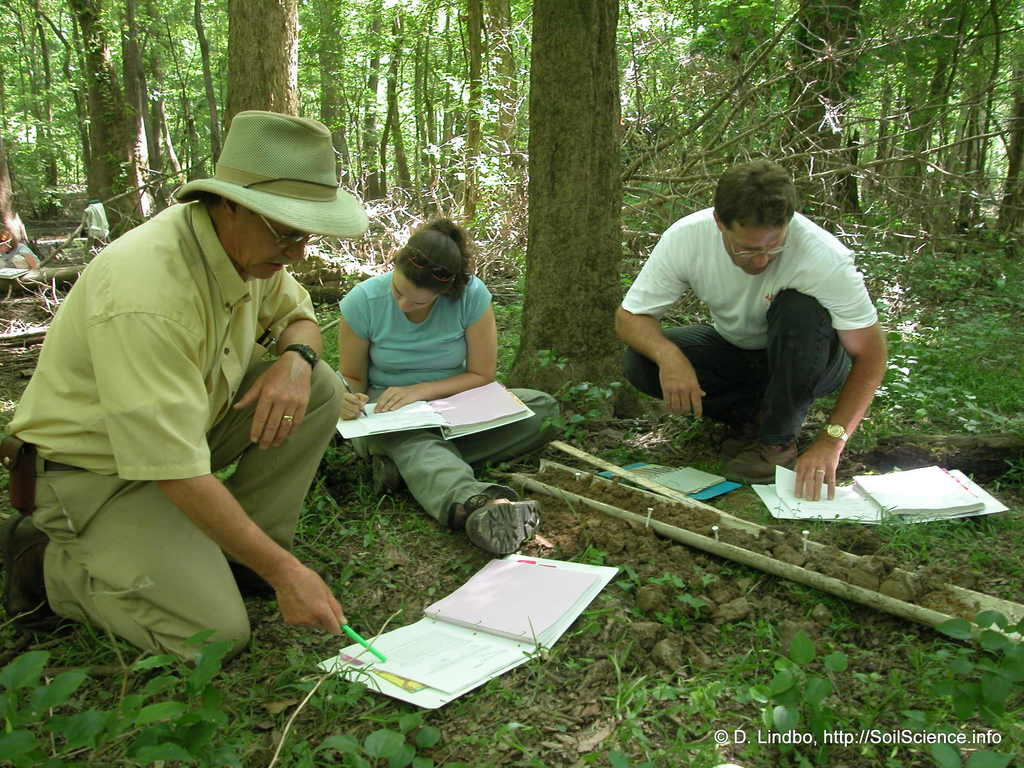Tree: (0, 0, 1023, 440)
